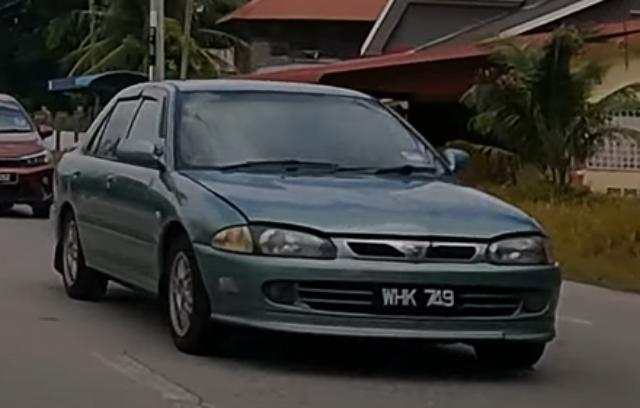License_Plate: (374, 284, 458, 313)
car: (50, 78, 562, 370)
